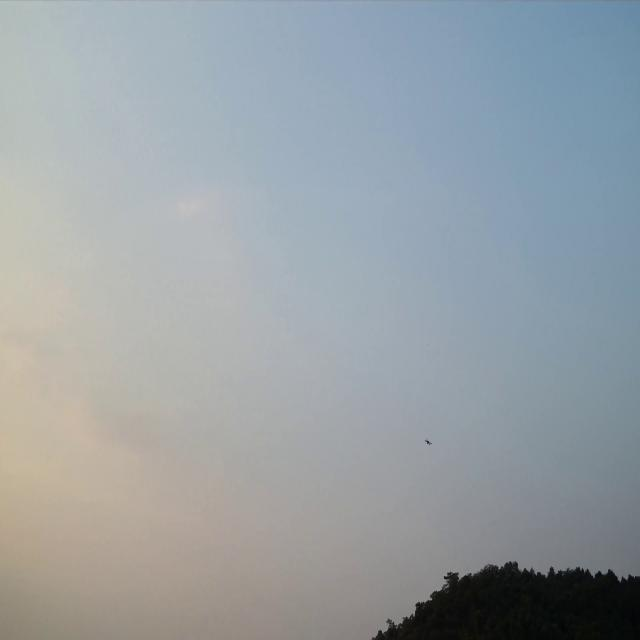UAV: (425, 438, 433, 446)
